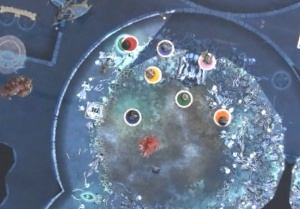blue: (113, 100, 147, 131)
green: (173, 85, 199, 111)
orange: (211, 105, 235, 130)
pink: (194, 49, 219, 73)
red: (118, 31, 142, 54)
violet: (154, 36, 177, 58)
yellow: (136, 60, 168, 87)
